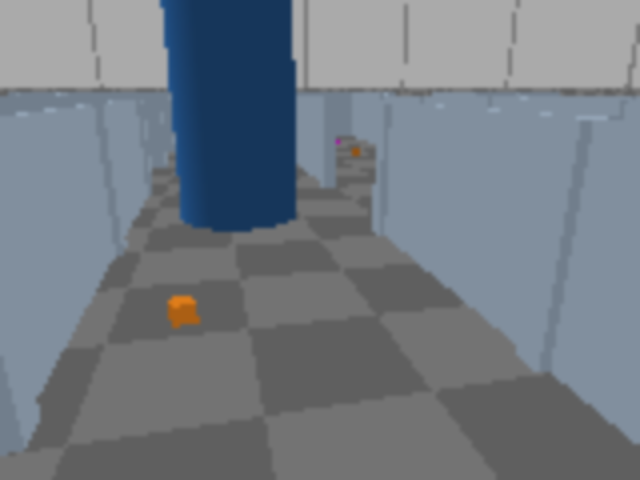puck: (168, 294, 199, 328)
